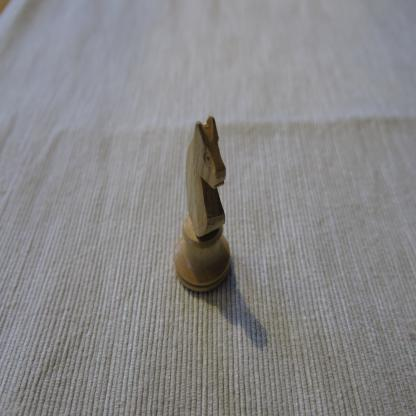white-knight: (174, 114, 231, 294)
